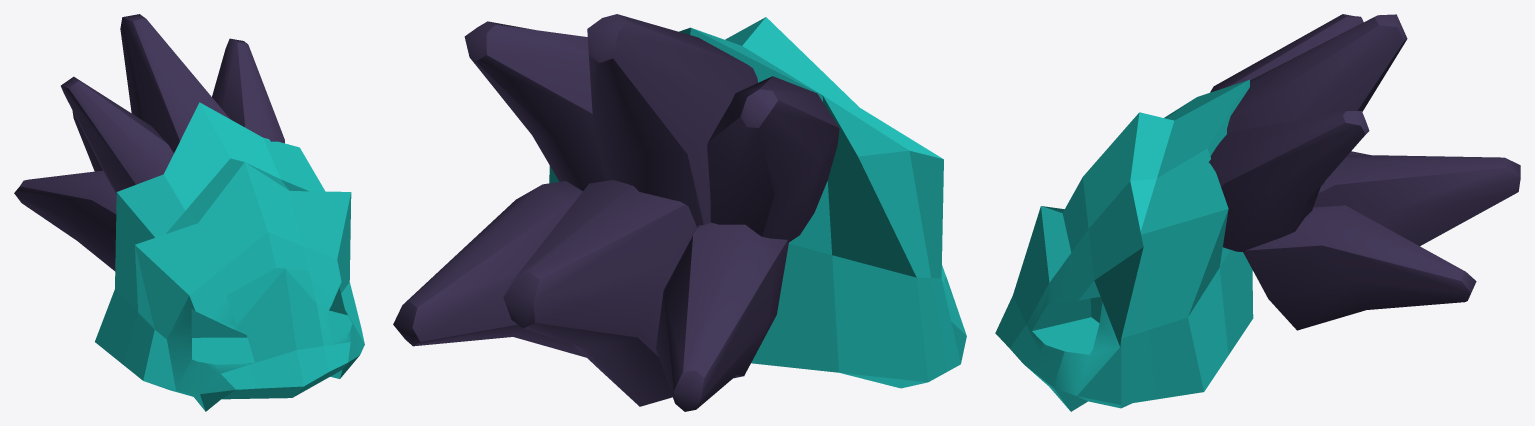
File: ReptileMaskDragon.fbx
The picture shows the model from 3 angles, left to right: view 1: azimuth 30°, elevation 25°; view 2: azimuth 150°, elevation 25°; view 3: azimuth 270°, elevation 25°; orthographic projection. The views are drawn at different scales.
Visible parts, largest first — view 1: ReptileMaskDragon; view 2: ReptileMaskDragon; view 3: ReptileMaskDragon.
Boxes of the visible parts, bbox=[...] form: ReptileMaskDragon: bbox=[14, 14, 364, 411]; ReptileMaskDragon: bbox=[393, 14, 966, 411]; ReptileMaskDragon: bbox=[995, 14, 1520, 411].
Size of the model in its own units: 1.7 by 1.88 by 2.56.
